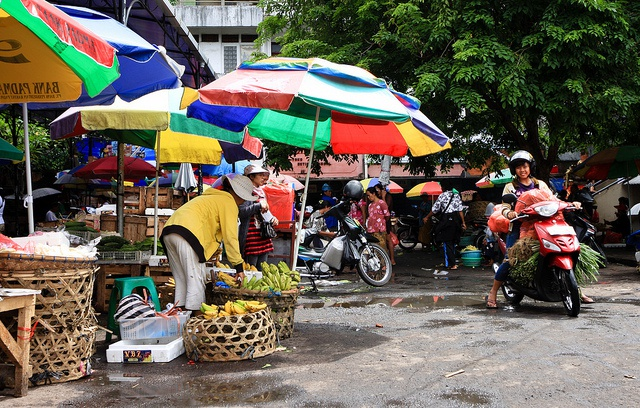non-vehicle: (485, 194, 580, 317), (296, 194, 391, 288), (573, 211, 608, 269), (395, 214, 438, 249)
